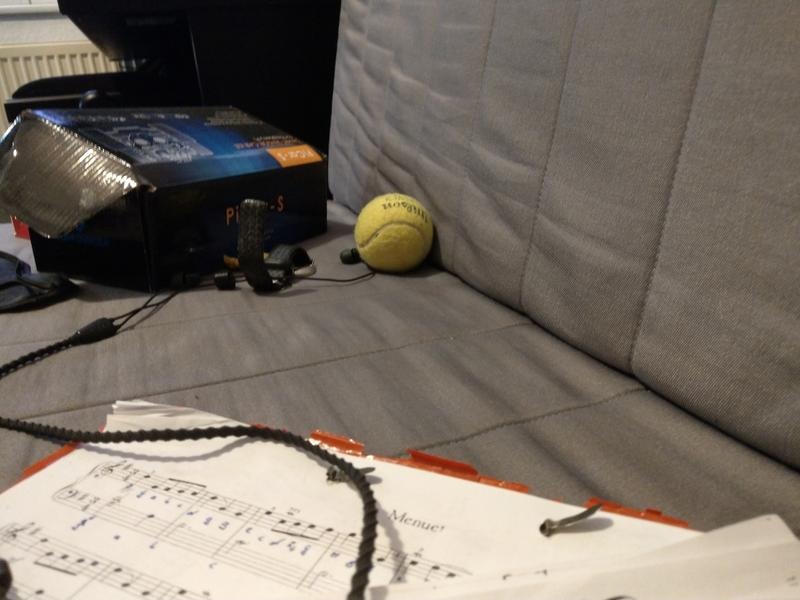Tennisball: (353, 191, 434, 278)
